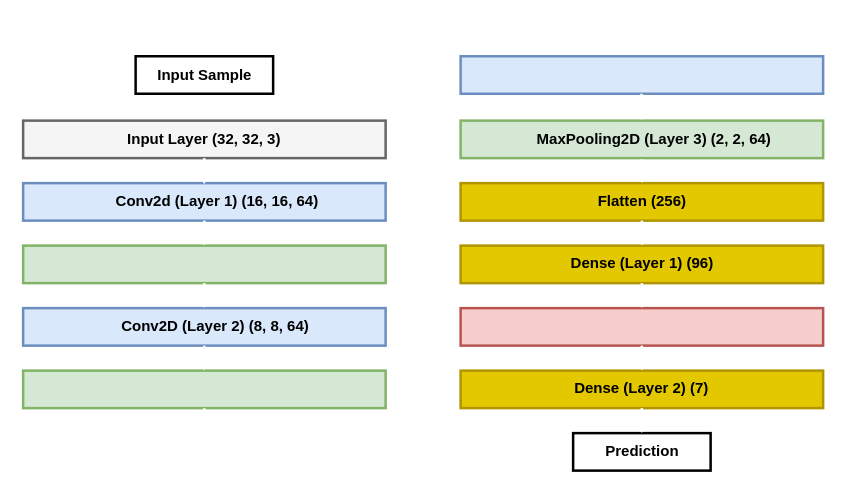
The diagram is 845 pixels wide and 493 high, and some of its shapes have lost their labels. The shapes that lost their labels are listed below. From the top down, each one's centre as x and y in pixels, then its label:
At point 641,74: "Conv2D (Layer 3) (4, 4, 64)".
At point 203,264: "MaxPooling2D (Layer 1) (8, 8, 64)".
At point 641,326: "Dropout (96)".
At point 203,389: "MaxPooling2D (Layer 2) (4, 4, 64)".
